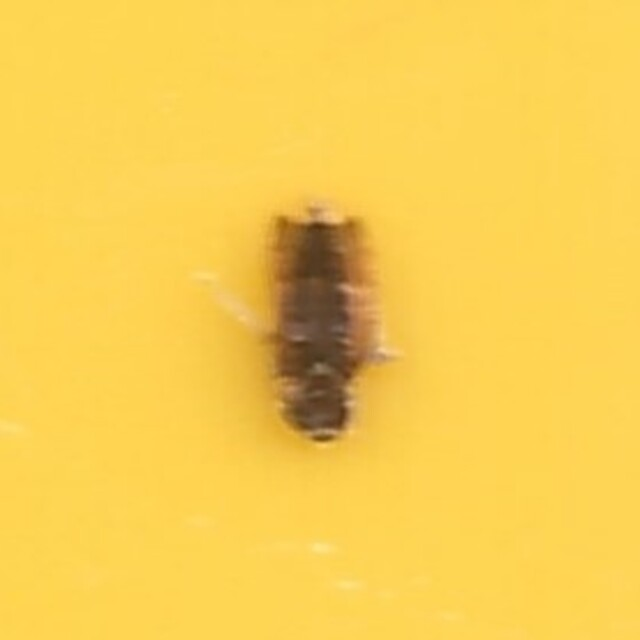Hemiptera: (231, 194, 409, 446)
